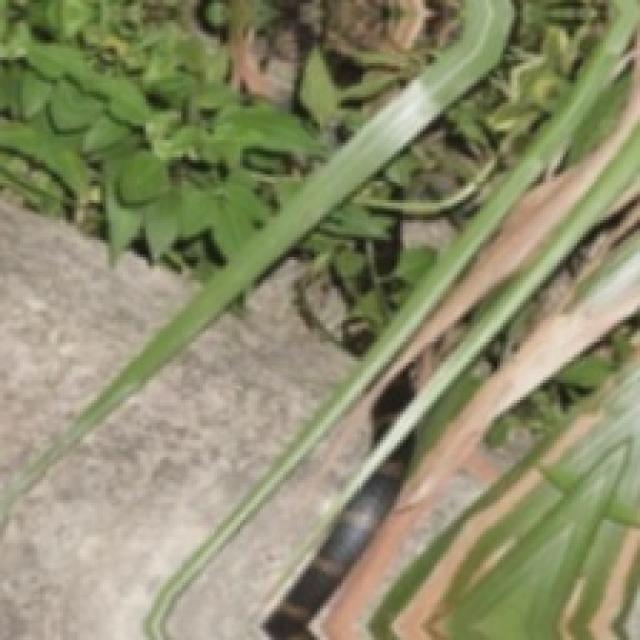king cobra: (0, 0, 637, 637), (209, 420, 369, 611)
